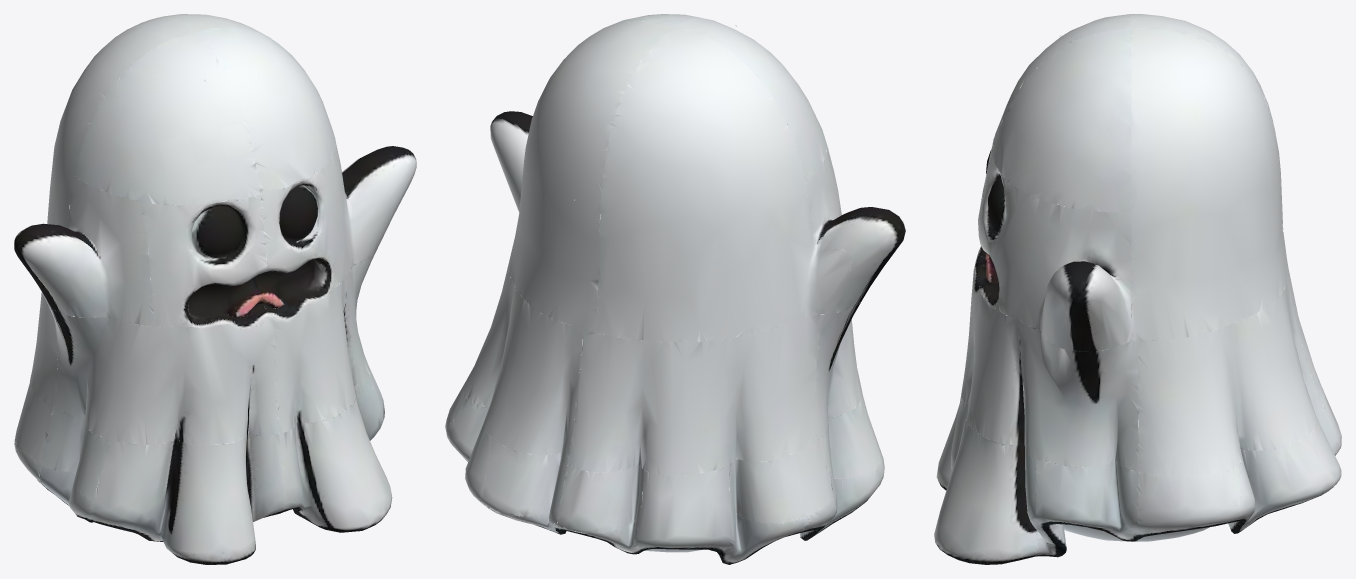
File: ghost.glb
3 views of the same model, side by side, from view 1: azimuth 30°, elevation 25°; view 2: azimuth 150°, elevation 25°; view 3: azimuth 270°, elevation 25° (orthographic). The views are drawn at different scales.
Parts seen in each view (by area): view 1: world; view 2: world; view 3: world.
Boxes of the visible parts, box(x1,y1,x2,y2) form: world: box(14, 14, 416, 564); world: box(445, 14, 905, 564); world: box(934, 14, 1341, 564).
Size of the model in its own units: 0.8876 by 1 by 0.7621.
1 material, 1 textured.
